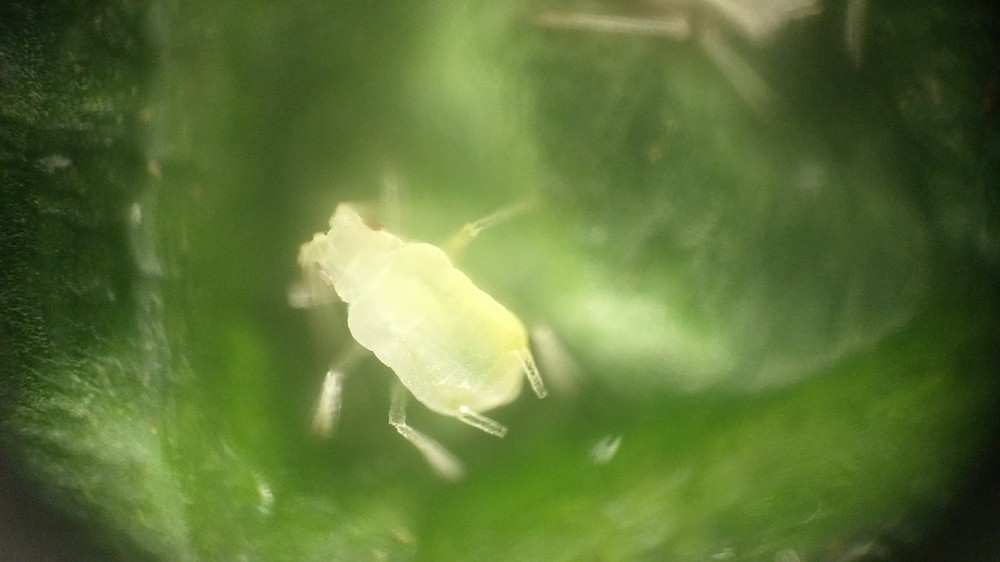Pulgon: (239, 166, 652, 490)
